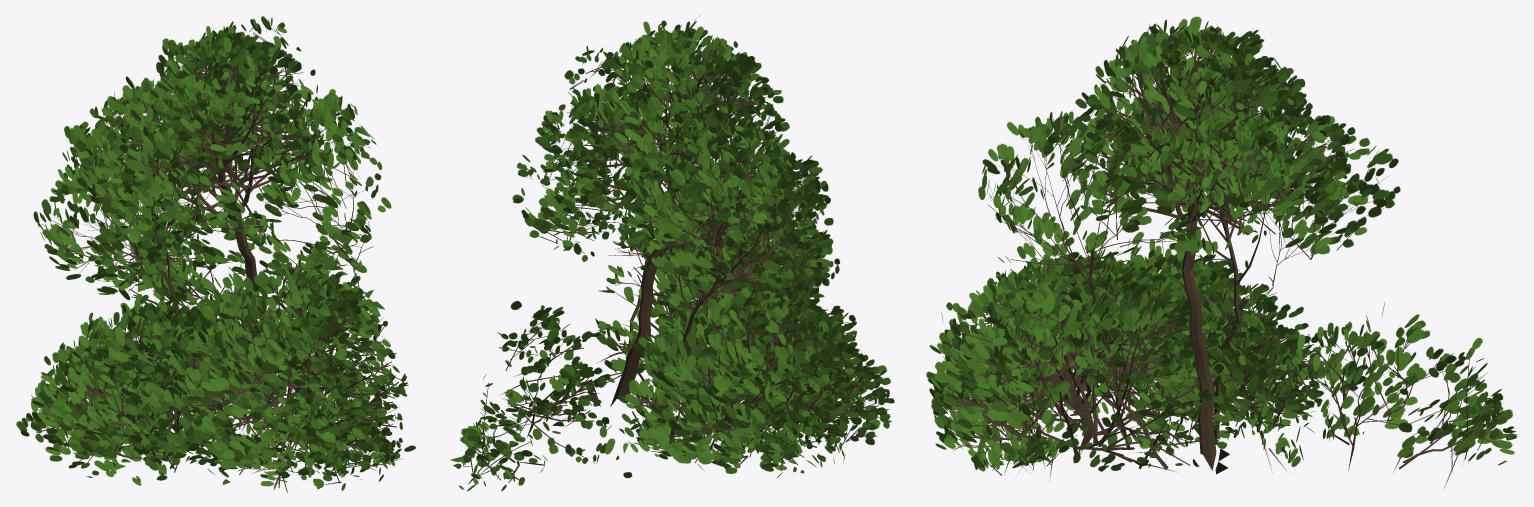
The picture shows the model from 3 angles, left to right: view 1: azimuth 30°, elevation 25°; view 2: azimuth 150°, elevation 25°; view 3: azimuth 270°, elevation 25°; orthographic projection. The views are drawn at different scales.
Visible parts, largest first — view 1: oak 01.001_trunk_Mat.001_0.368; view 2: oak 01.001_trunk_Mat.001_0.368; view 3: oak 01.001_trunk_Mat.001_0.368.
Boxes of the visible parts, x1,y1,x2,y2 form: oak 01.001_trunk_Mat.001_0.368: [16, 16, 415, 492]; oak 01.001_trunk_Mat.001_0.368: [450, 15, 894, 491]; oak 01.001_trunk_Mat.001_0.368: [926, 16, 1517, 487].
Bounding box in the file's own units: 3.3 × 4.35 × 5.43.
Materials: 2 (1 with a texture image).
